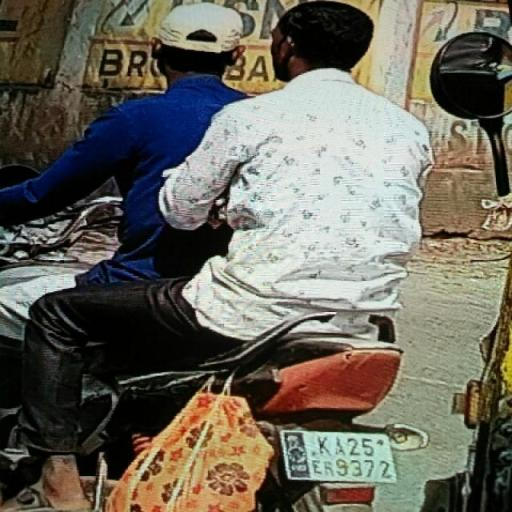bike: (4, 0, 434, 512)
numberplate: (285, 432, 396, 482)
withouthelmet: (274, 0, 374, 68), (158, 4, 245, 80)
